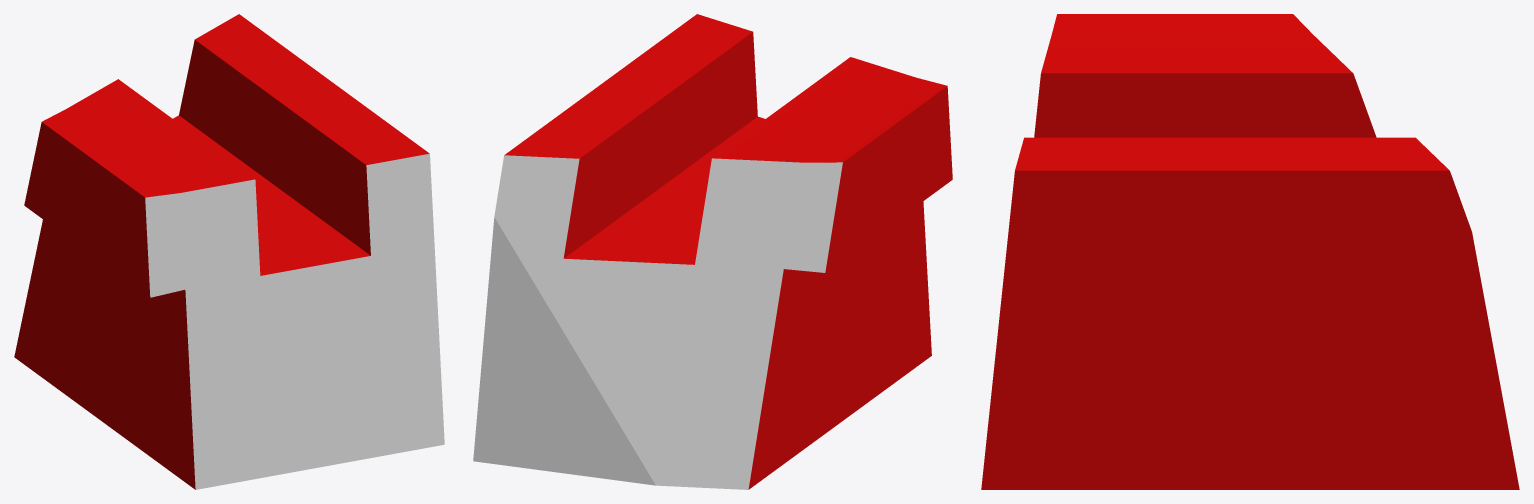
Rendered from mdl_ciudadela_pared_fracturepart13.fbx.
3 renders of one model, left to right at view 1: azimuth 30°, elevation 25°; view 2: azimuth 150°, elevation 25°; view 3: azimuth 270°, elevation 25°, orthographic. The views are drawn at different scales.
Parts seen in each view (by area): view 1: mdl_ciudadela_pared_fracturepart13; view 2: mdl_ciudadela_pared_fracturepart13; view 3: mdl_ciudadela_pared_fracturepart13.
Boxes of the visible parts, left/top/right/bottom form: mdl_ciudadela_pared_fracturepart13: left=14, top=14, right=444, bottom=489; mdl_ciudadela_pared_fracturepart13: left=473, top=14, right=952, bottom=489; mdl_ciudadela_pared_fracturepart13: left=981, top=14, right=1519, bottom=489.
Bounding box in the file's own units: 4.07 × 4.21 × 6.26.
